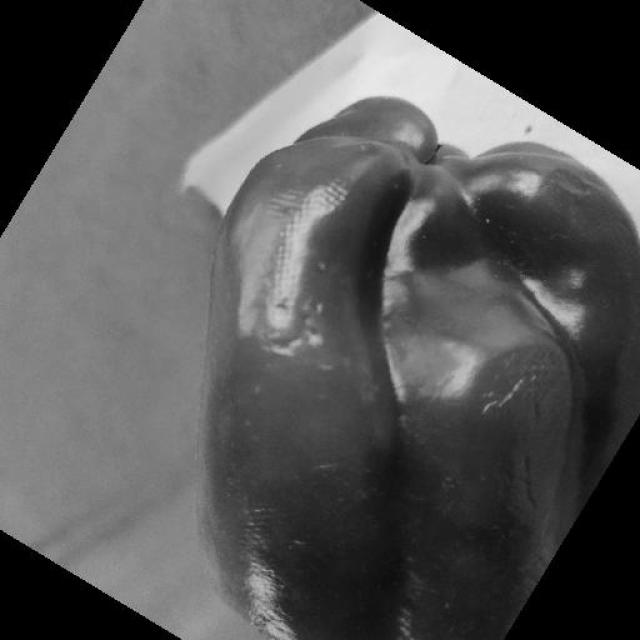Stale_Capsicum: (190, 138, 640, 627)
